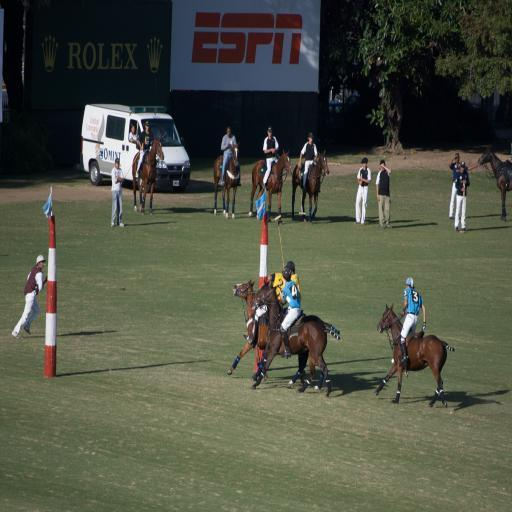horse: (227, 276, 341, 382), (249, 278, 341, 396), (374, 301, 456, 412), (250, 154, 290, 222), (130, 135, 164, 214), (478, 144, 512, 220), (294, 150, 328, 222), (214, 142, 244, 212)
